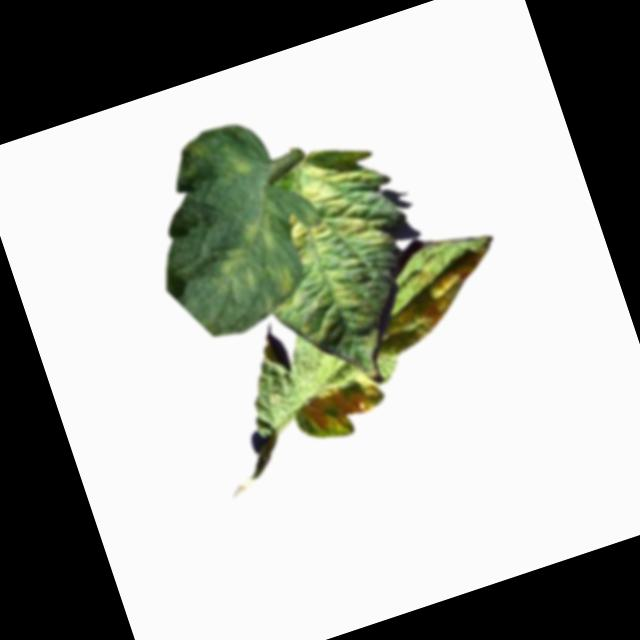Leaf_Mold: (365, 243, 523, 356), (270, 140, 398, 276), (200, 209, 298, 301), (298, 367, 393, 441), (183, 121, 257, 194), (266, 258, 302, 299)
